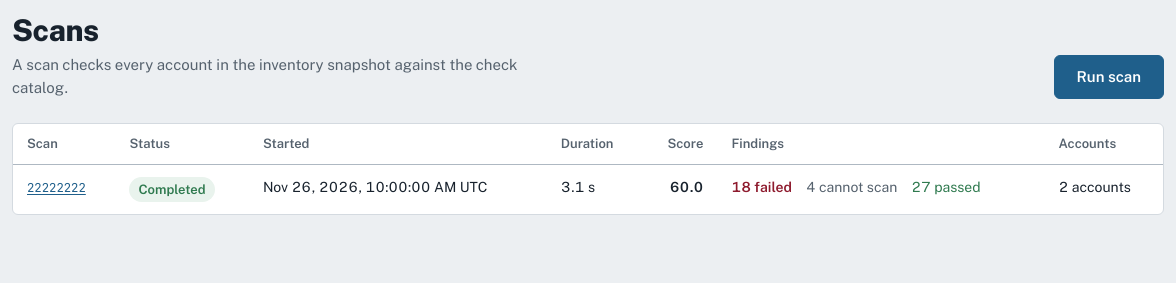
Test case: ScansPage › starts a scan and shows it running with an N/A score
Check: the text "Completed" is shown, box [129,176,214,202]
Click the button "Run scan" at (1109, 77), box [1054,54,1164,99]
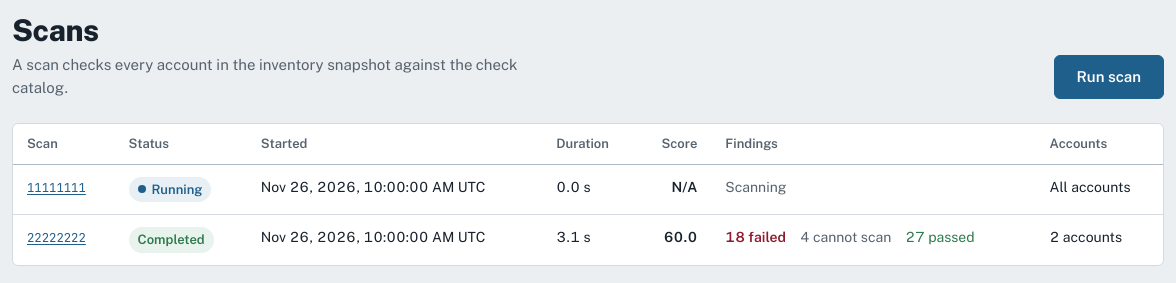
Check: the text "N/A" is shown, box [637,164,711,214]
Check: the text "All accounts" is shown, box [1036,164,1163,214]
